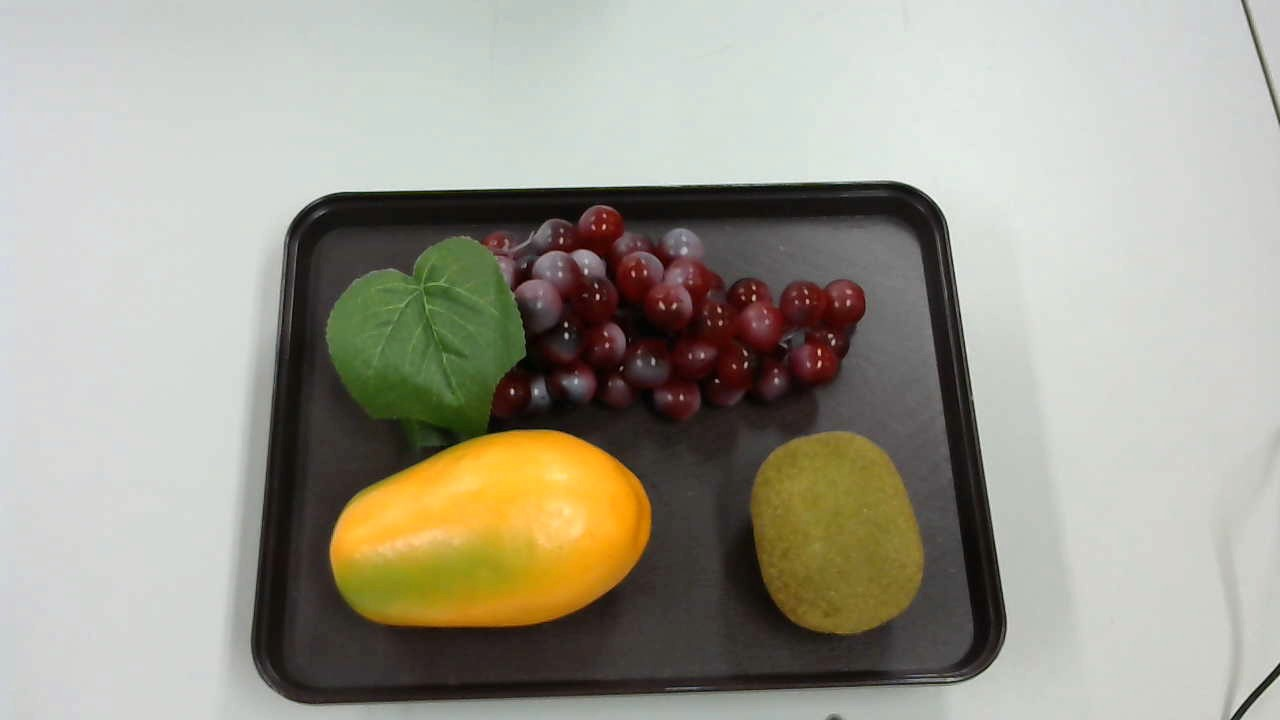grape: (325, 206, 869, 433)
kiwi fruit: (742, 431, 927, 636)
papya: (327, 424, 660, 633)
